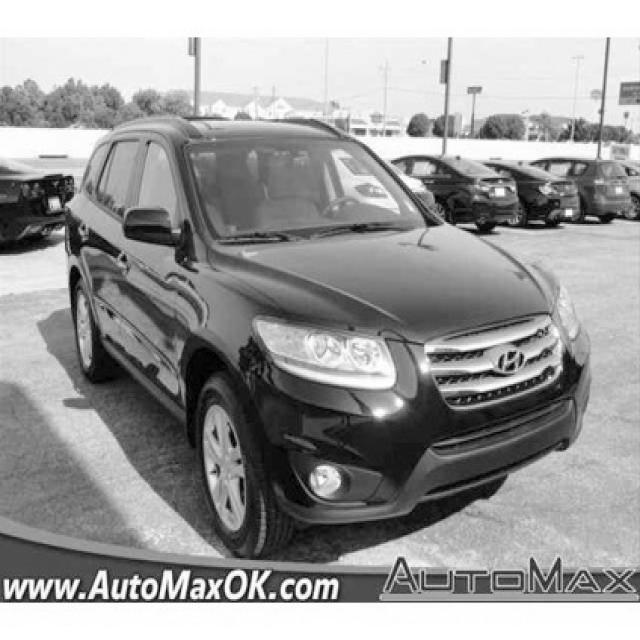car: (62, 112, 592, 558), (388, 152, 520, 234), (532, 157, 631, 225), (484, 160, 580, 228)
